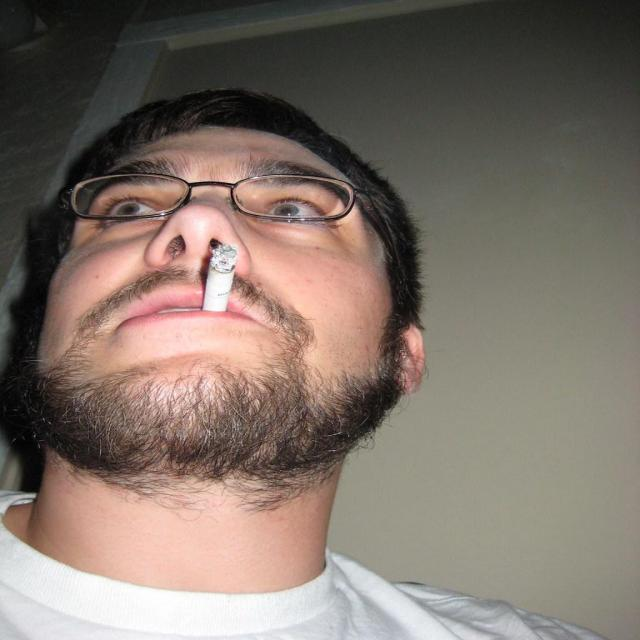Сигарета: (200, 243, 240, 315)
Тело: (34, 123, 428, 640)
